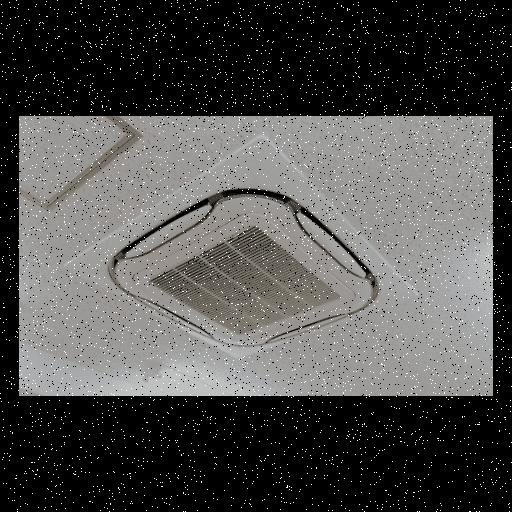4-way-ac: (66, 136, 414, 361)
